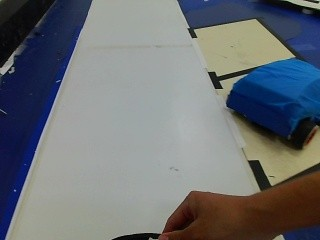car: (221, 60, 318, 153)
